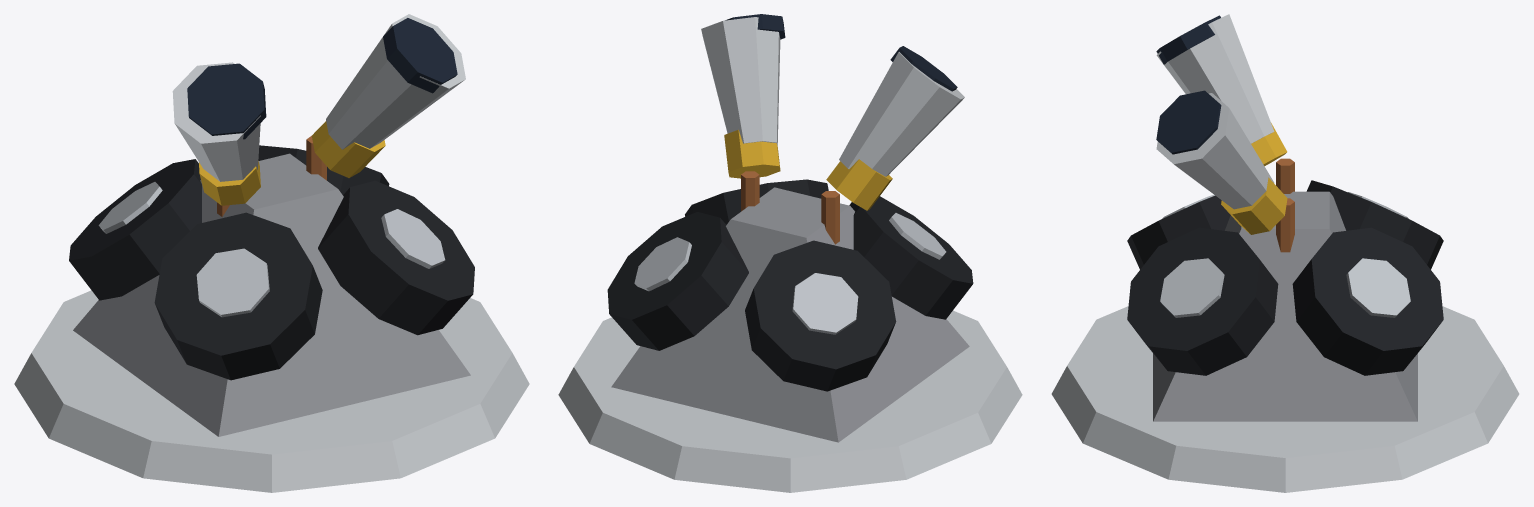
Rendered from attitude-reaction-wheels.glb.
3 renders of one model, left to right at view 1: azimuth 30°, elevation 25°; view 2: azimuth 150°, elevation 25°; view 3: azimuth 270°, elevation 25°, orthographic. The views are drawn at different scales.
Parts seen in each view (by area): view 1: AttitudeReactionWheels_Aluminum, AttitudeReactionWheels_HullBlack, AttitudeReactionWheels_Titanium, AttitudeReactionWheels_Visor, AttitudeReactionWheels_Steel, AttitudeReactionWheels_FoilGold, AttitudeReactionWheels_Copper; view 2: AttitudeReactionWheels_Aluminum, AttitudeReactionWheels_HullBlack, AttitudeReactionWheels_Titanium, AttitudeReactionWheels_Steel, AttitudeReactionWheels_FoilGold, AttitudeReactionWheels_Copper, AttitudeReactionWheels_Visor; view 3: AttitudeReactionWheels_Aluminum, AttitudeReactionWheels_HullBlack, AttitudeReactionWheels_Titanium, AttitudeReactionWheels_Steel, AttitudeReactionWheels_Visor, AttitudeReactionWheels_FoilGold, AttitudeReactionWheels_Copper.
Boxes of the visible parts, left/top/right/bottom form: AttitudeReactionWheels_Aluminum: left=14, top=14, right=529, bottom=492; AttitudeReactionWheels_HullBlack: left=69, top=145, right=474, bottom=380; AttitudeReactionWheels_Titanium: left=73, top=153, right=470, bottom=436; AttitudeReactionWheels_Visor: left=187, top=18, right=457, bottom=139; AttitudeReactionWheels_Steel: left=98, top=182, right=445, bottom=317; AttitudeReactionWheels_FoilGold: left=199, top=121, right=385, bottom=205; AttitudeReactionWheels_Copper: left=217, top=136, right=326, bottom=216; AttitudeReactionWheels_Aluminum: left=558, top=17, right=1022, bottom=492; AttitudeReactionWheels_HullBlack: left=607, top=179, right=973, bottom=391; AttitudeReactionWheels_Titanium: left=611, top=187, right=969, bottom=442; AttitudeReactionWheels_Steel: left=634, top=213, right=946, bottom=334; AttitudeReactionWheels_FoilGold: left=724, top=129, right=892, bottom=210; AttitudeReactionWheels_Copper: left=741, top=171, right=839, bottom=244; AttitudeReactionWheels_Visor: left=725, top=14, right=957, bottom=91; AttitudeReactionWheels_Aluminum: left=1051, top=14, right=1519, bottom=492; AttitudeReactionWheels_HullBlack: left=1127, top=180, right=1443, bottom=375; AttitudeReactionWheels_Titanium: left=1153, top=191, right=1417, bottom=421; AttitudeReactionWheels_Steel: left=1160, top=192, right=1410, bottom=317; AttitudeReactionWheels_Visor: left=1156, top=15, right=1221, bottom=154; AttitudeReactionWheels_FoilGold: left=1221, top=123, right=1287, bottom=234; AttitudeReactionWheels_Copper: left=1276, top=158, right=1294, bottom=252.
Bounding box in the file's own units: 0.6 × 0.4774 × 0.6.
